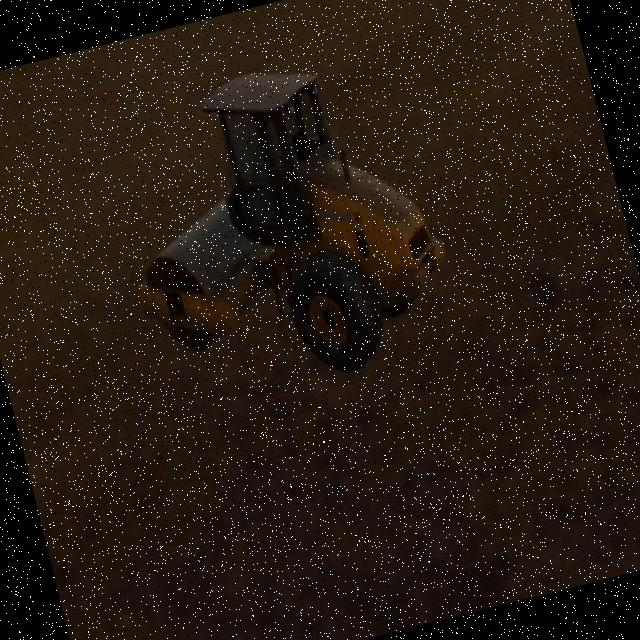Roller: (92, 36, 468, 418)
